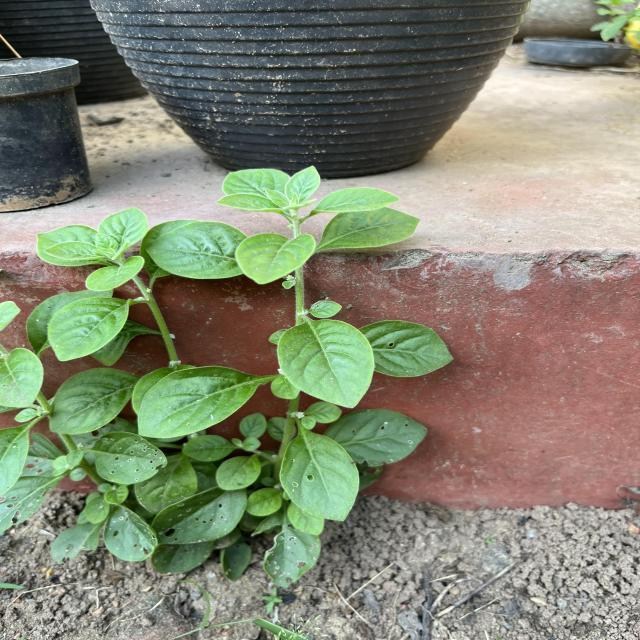Aerva lanata: (136, 363, 268, 441), (274, 316, 376, 411), (278, 421, 362, 524), (143, 218, 255, 282), (358, 318, 457, 379)
